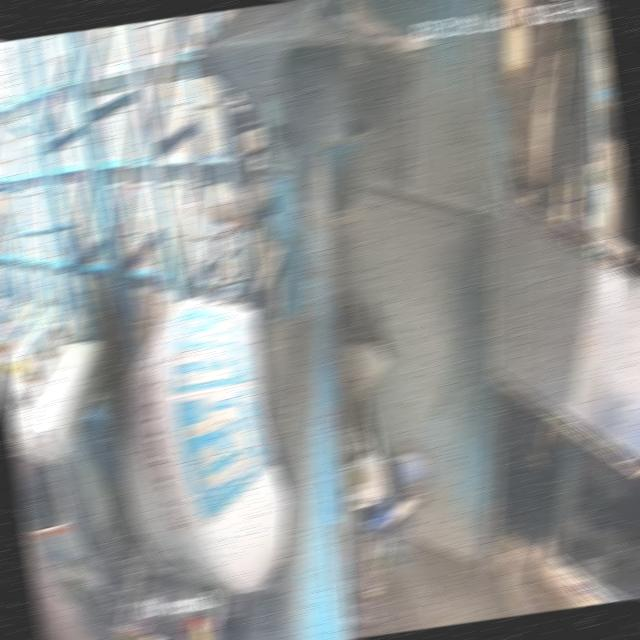cement_mixer_truck: (11, 300, 435, 640)
swing_chute: (272, 122, 377, 336)
